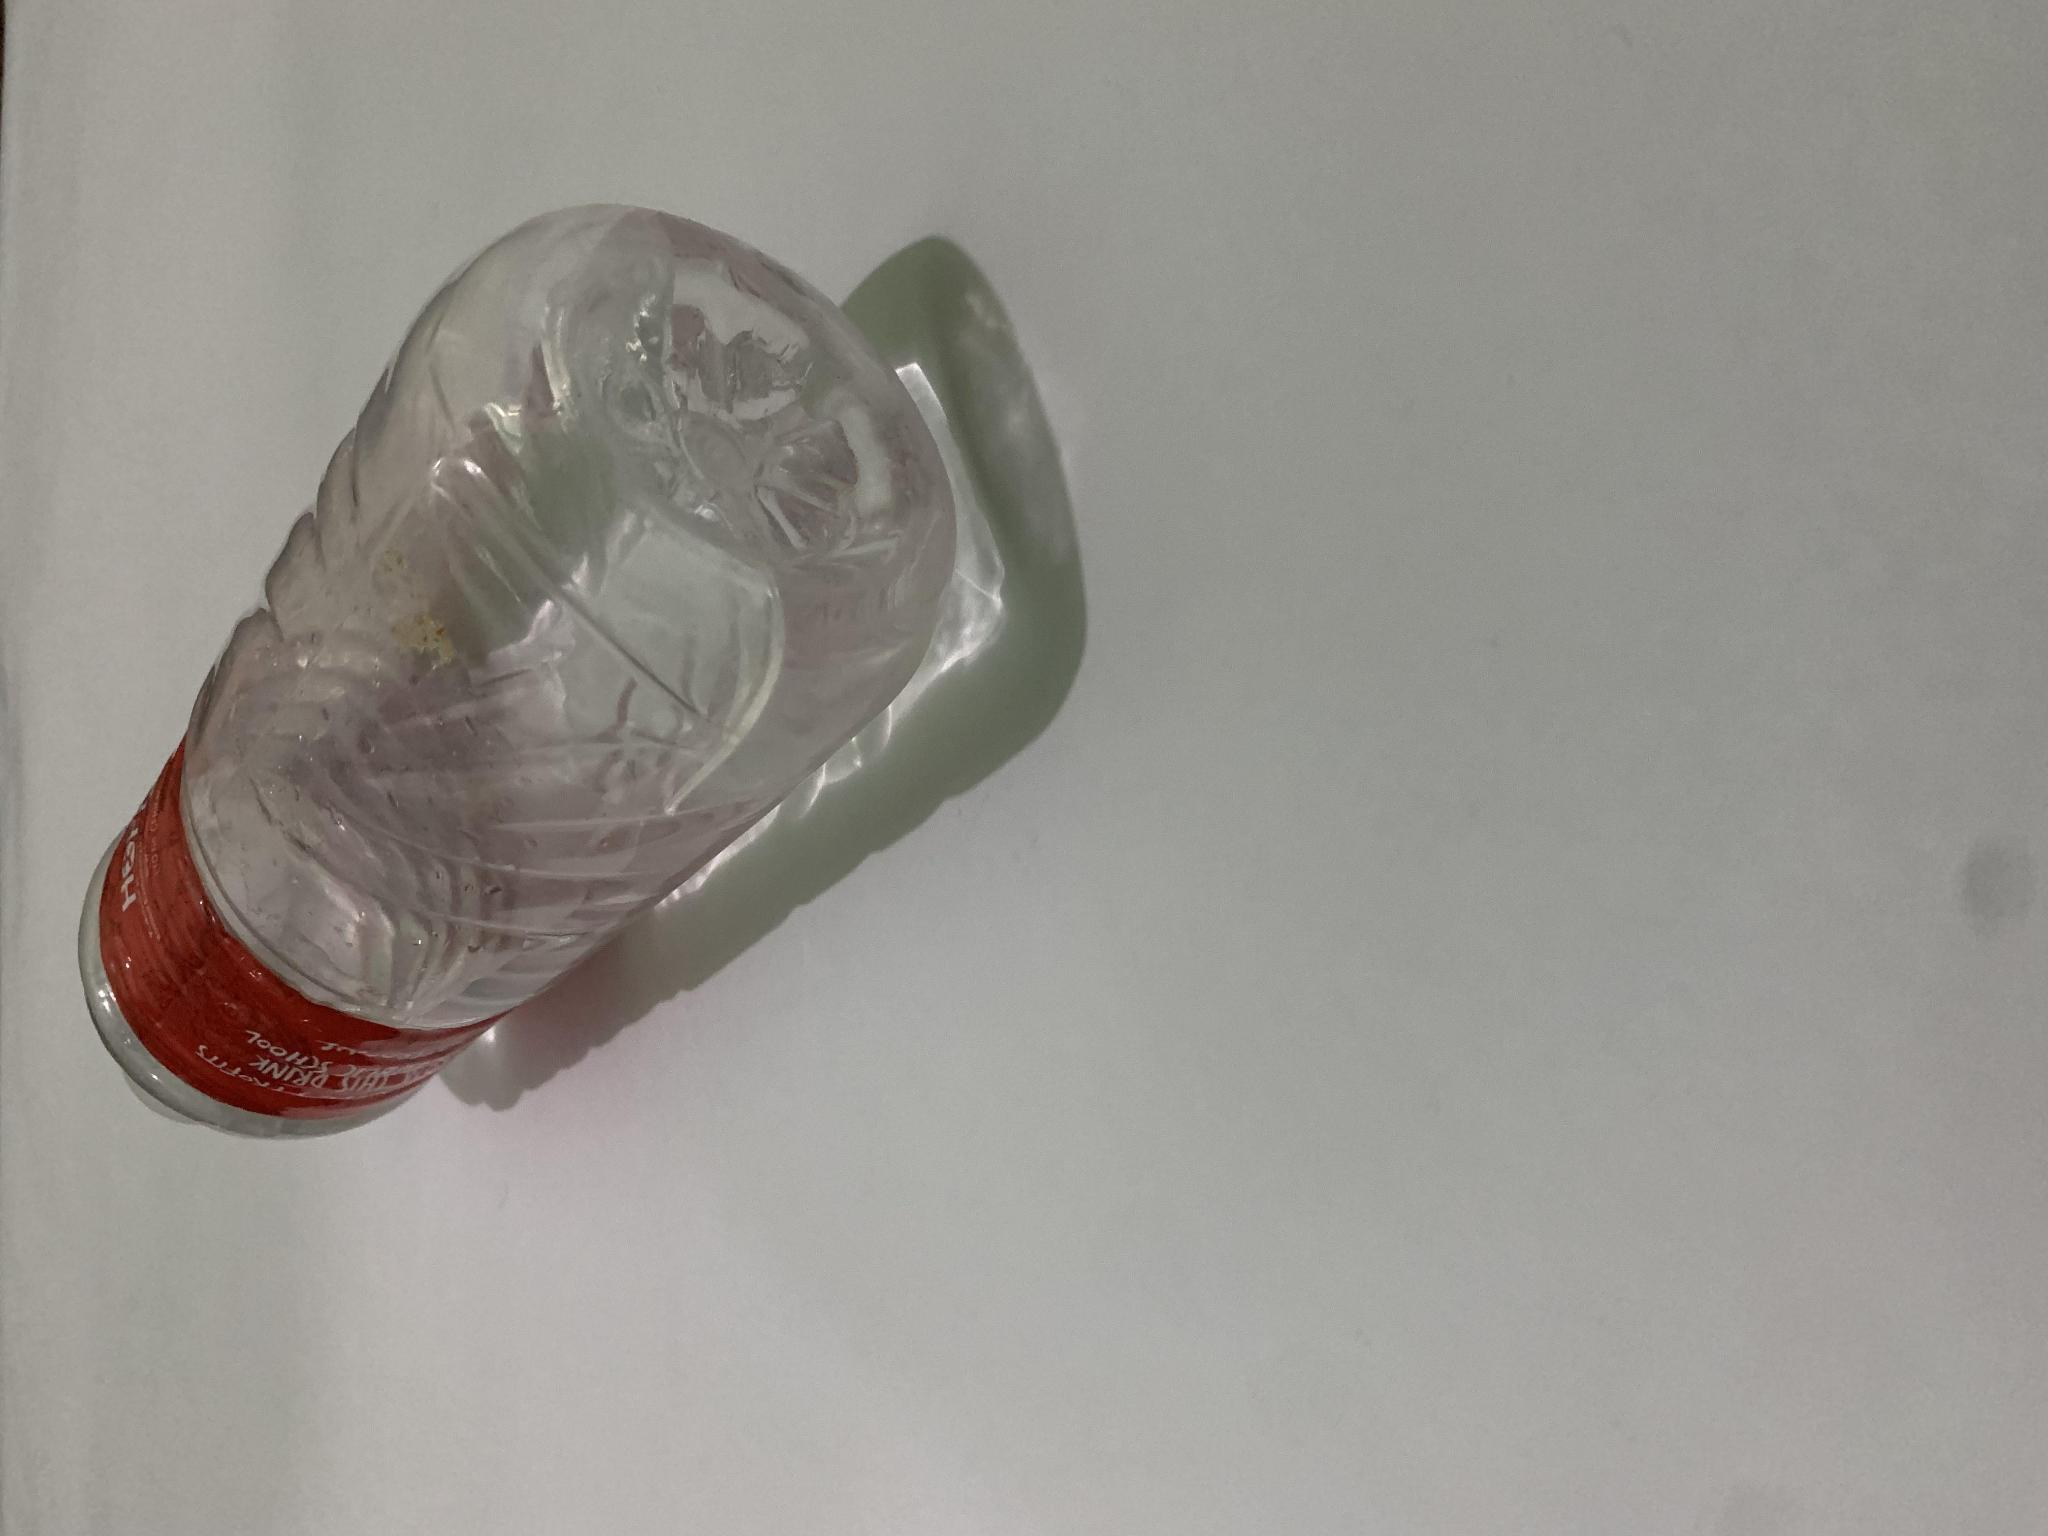bottle: (56, 163, 985, 1191)
